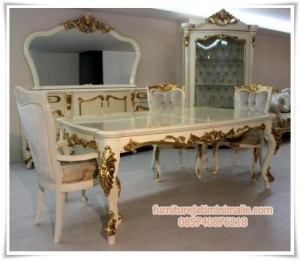Carving Table: (59, 108, 279, 249)
